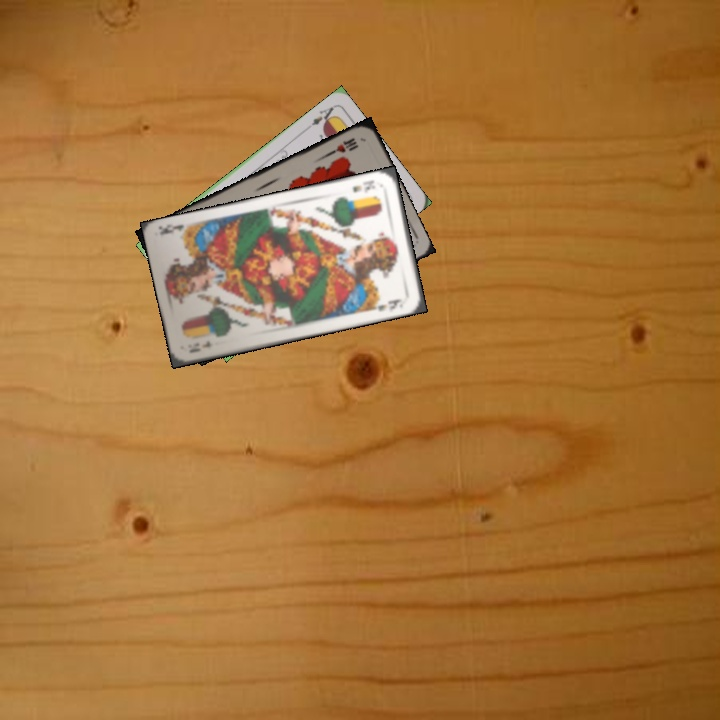EA: (303, 102, 338, 132)
EK: (185, 336, 214, 356), (348, 176, 377, 195)
H10: (324, 134, 360, 158)
